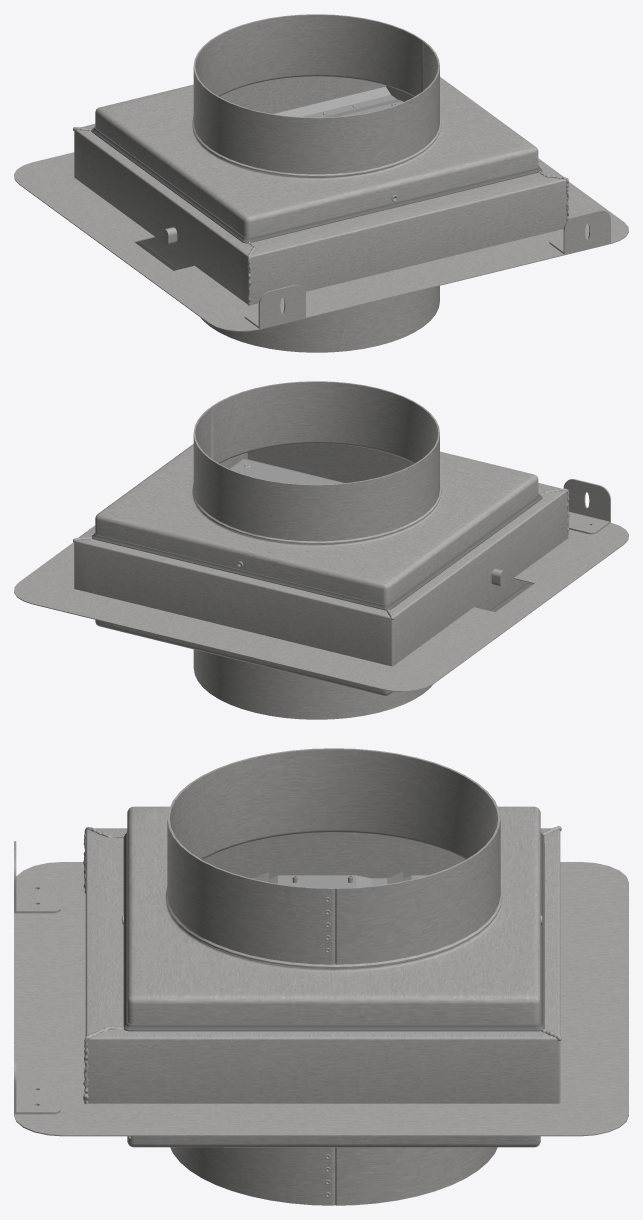
File: DamperEndCap.gltf
3 views of the same model, one above another, from view 1: azimuth 30°, elevation 25°; view 2: azimuth 150°, elevation 25°; view 3: azimuth 270°, elevation 25° (orthographic). The views are drawn at different scales.
Parts seen in each view (by area): view 1: end, Plane.001, Plane.005, Plane.006, end.002, Plane.007; view 2: end, Plane.001, Plane.005, end.002, Plane.006, Plane.007; view 3: end, Plane.001, Plane.005, end.002, Plane.006, Plane.007, Plane.004.
Boxes of the visible parts, box(x1,y1,x2,y2) form: end: box(95, 14, 538, 352); Plane.001: box(74, 76, 566, 305); Plane.005: box(14, 152, 628, 331); Plane.006: box(244, 210, 610, 328); end.002: box(91, 126, 542, 243); Plane.007: box(274, 86, 403, 117); end: box(95, 381, 538, 719); Plane.001: box(74, 443, 567, 666); Plane.005: box(14, 523, 628, 691); end.002: box(91, 493, 542, 610); Plane.006: box(563, 479, 610, 534); Plane.007: box(230, 459, 344, 484); end: box(127, 748, 540, 1205); Plane.001: box(85, 828, 560, 1103); Plane.005: box(14, 862, 628, 1136); end.002: box(123, 832, 544, 1031); Plane.006: box(14, 841, 60, 1114); Plane.007: box(251, 872, 426, 888); Plane.004: box(83, 827, 130, 1138).
Bounding box in the file's own units: 2.77 × 1.5 × 2.63.
4 materials, 2 textured.
